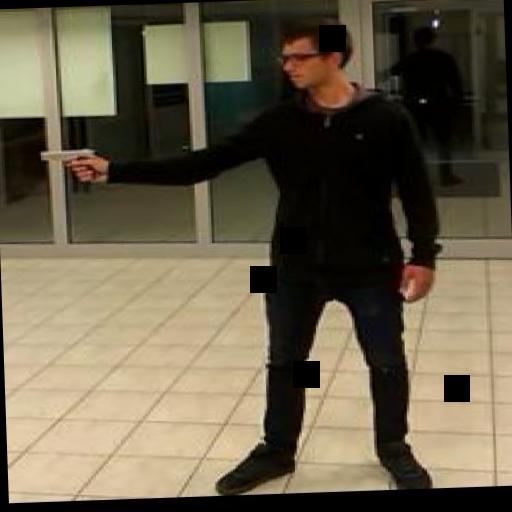Handgun: (32, 144, 100, 184)
